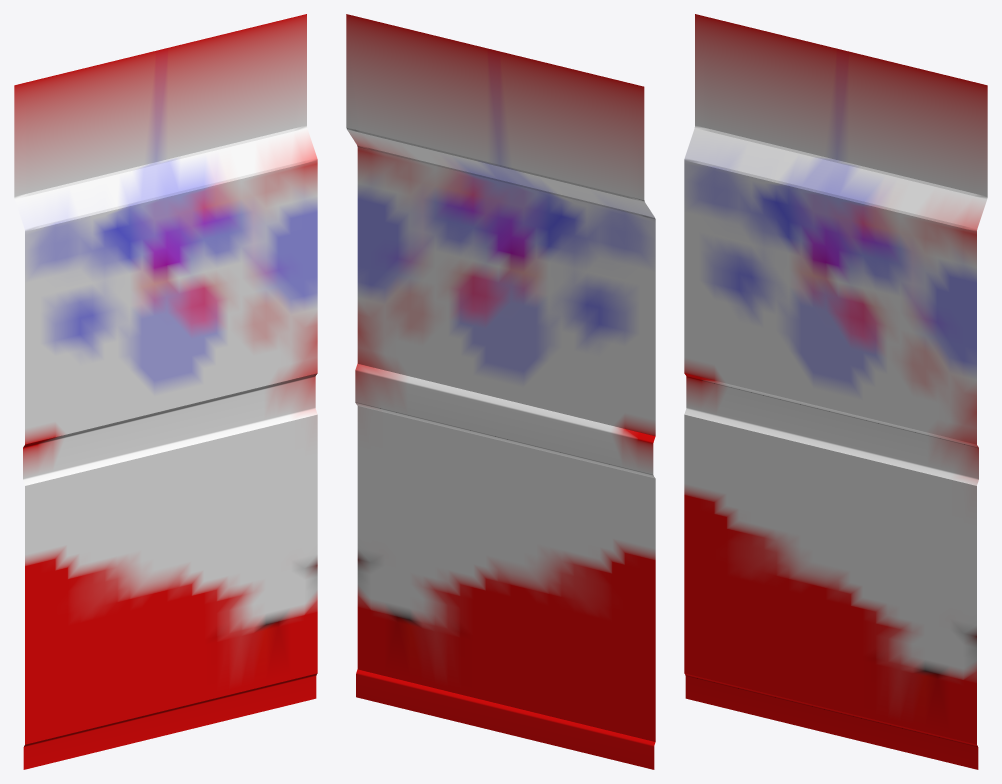
3 renders of one model, left to right at view 1: azimuth 30°, elevation 25°; view 2: azimuth 150°, elevation 25°; view 3: azimuth 330°, elevation 25°, orthographic.
Parts seen in each view (by area): view 1: SM_Platform_Wall_Large_03_LOD0; view 2: SM_Platform_Wall_Large_03_LOD0; view 3: SM_Platform_Wall_Large_03_LOD0.
Boxes of the visible parts, box(x1,y1,x2,y2) form: SM_Platform_Wall_Large_03_LOD0: box(14, 14, 317, 769); SM_Platform_Wall_Large_03_LOD0: box(346, 14, 655, 769); SM_Platform_Wall_Large_03_LOD0: box(684, 14, 987, 769).
Size of the model in its own units: 500 by 32.32 by 1106.
